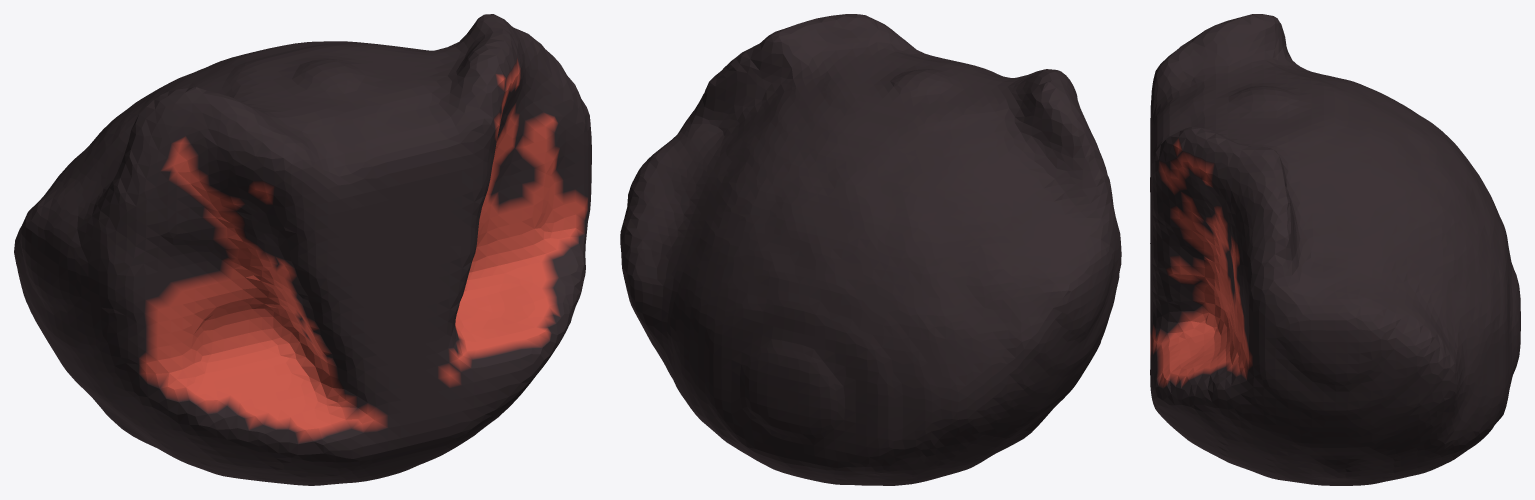
File: bun.glb
3 views of the same model, side by side, from view 1: azimuth 30°, elevation 25°; view 2: azimuth 150°, elevation 25°; view 3: azimuth 270°, elevation 25° (orthographic). The views are drawn at different scales.
Visible parts, largest first — view 1: geometry_0; view 2: geometry_0; view 3: geometry_0.
Boxes of the visible parts, x1=… form: geometry_0: x1=14, y1=14, x2=591, y2=485; geometry_0: x1=620, y1=14, x2=1121, y2=485; geometry_0: x1=1150, y1=14, x2=1520, y2=485.
Size of the model in its own units: 0.3012 by 0.228 by 0.2171.
